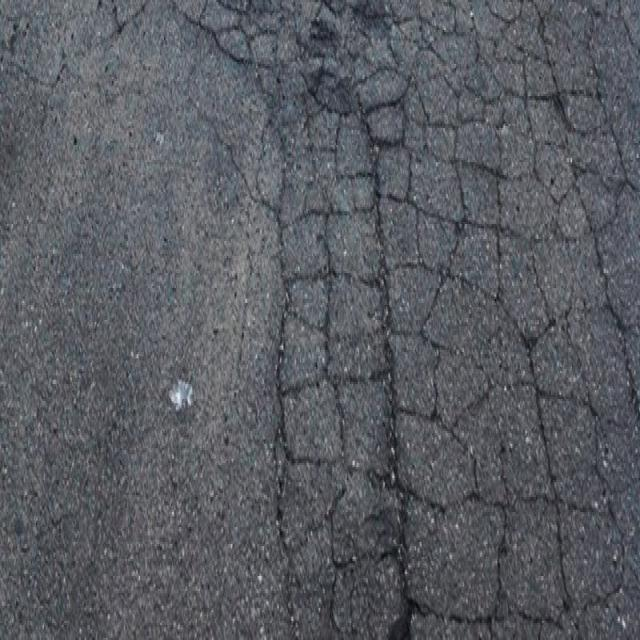Drain Hole: (259, 72, 640, 640)
